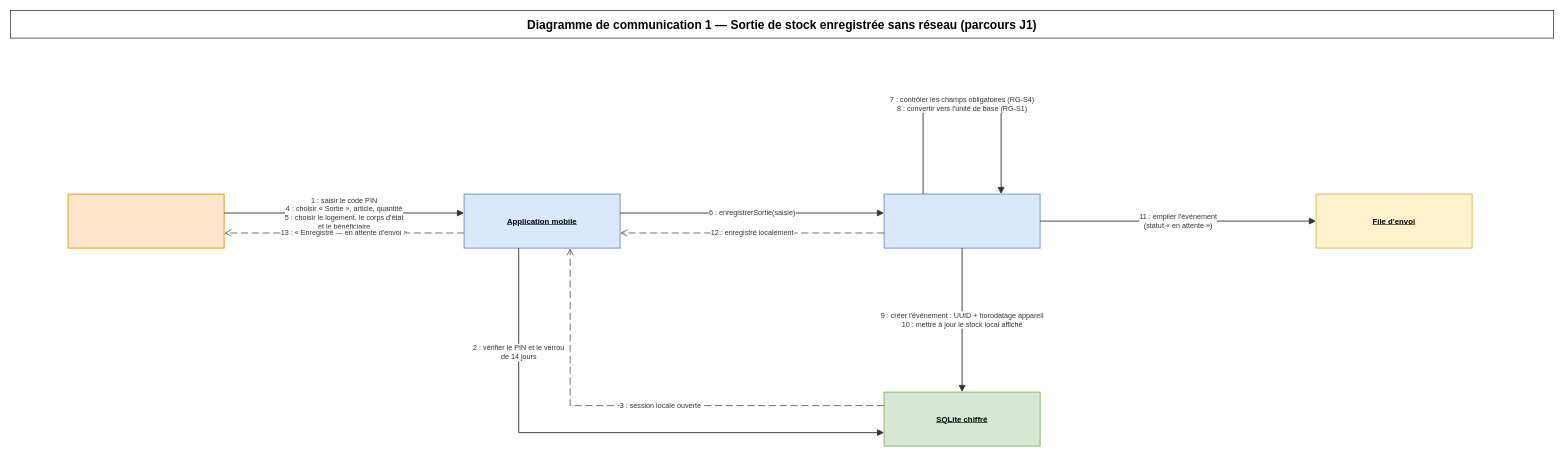
The diagram is 1564 pixels wide and 457 high, and some of its shapes have lost their labels. The shapes that lost their labels are listed below. From the top down, each one's centre as x and y in pixels, then its label:
the point at 145,220: Magasinier
the point at 961,220: Service stock local
